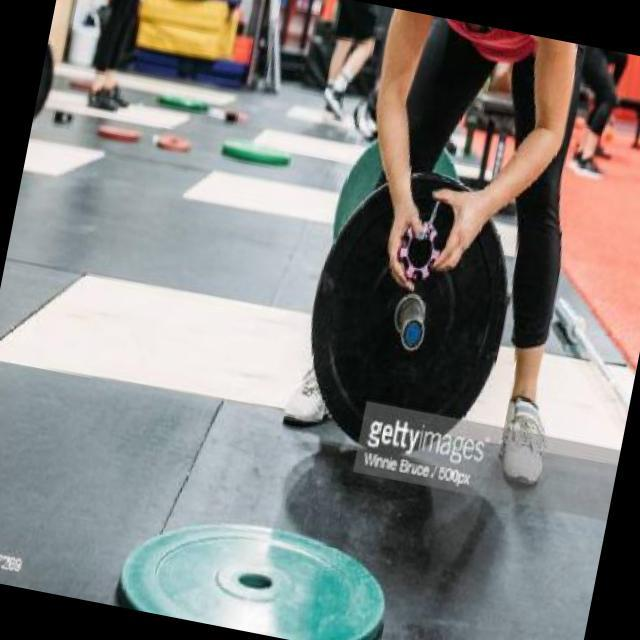barbell: (278, 145, 542, 480)
